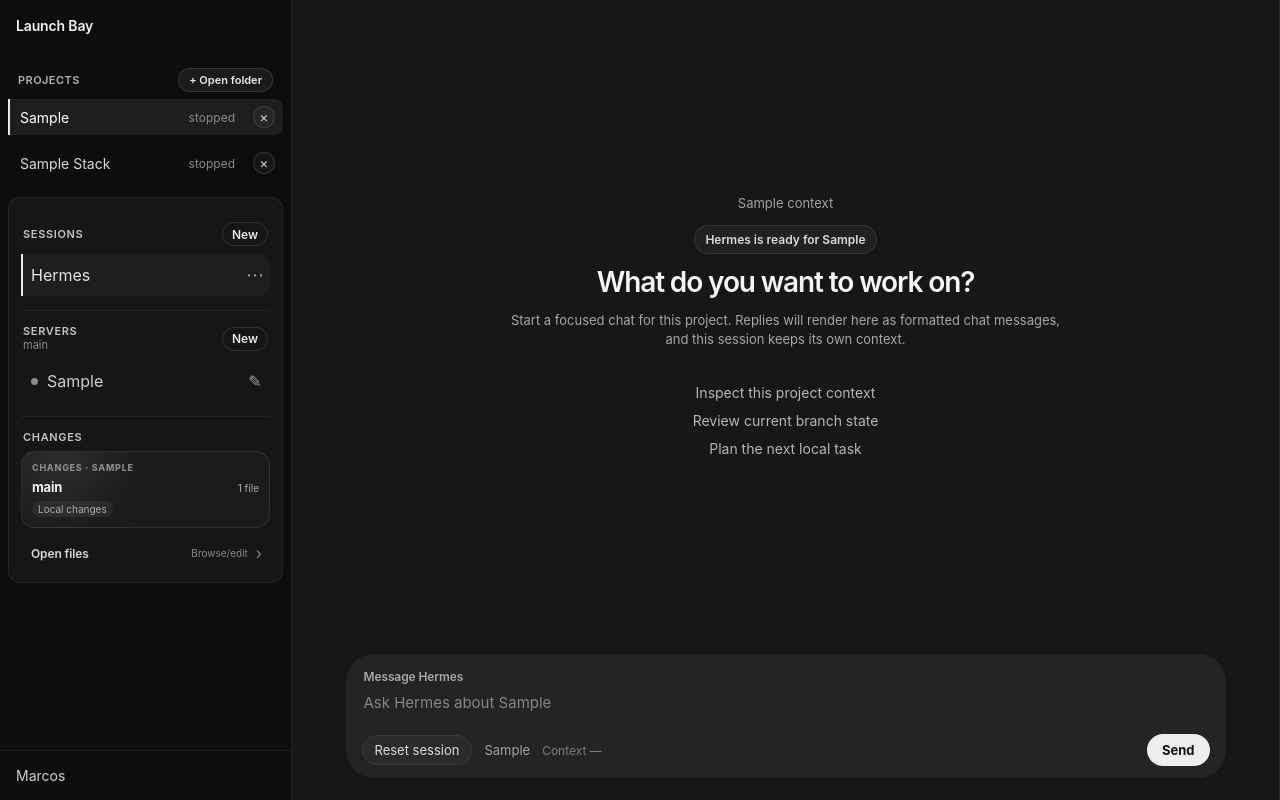
Launch Bay shell › refreshes the open changes workbench automatically when the app regains focus
This screenshot has width=1280, height=800.
Click the button with aria-label "Expand changes workbench": (146, 490) [21,451,270,528]
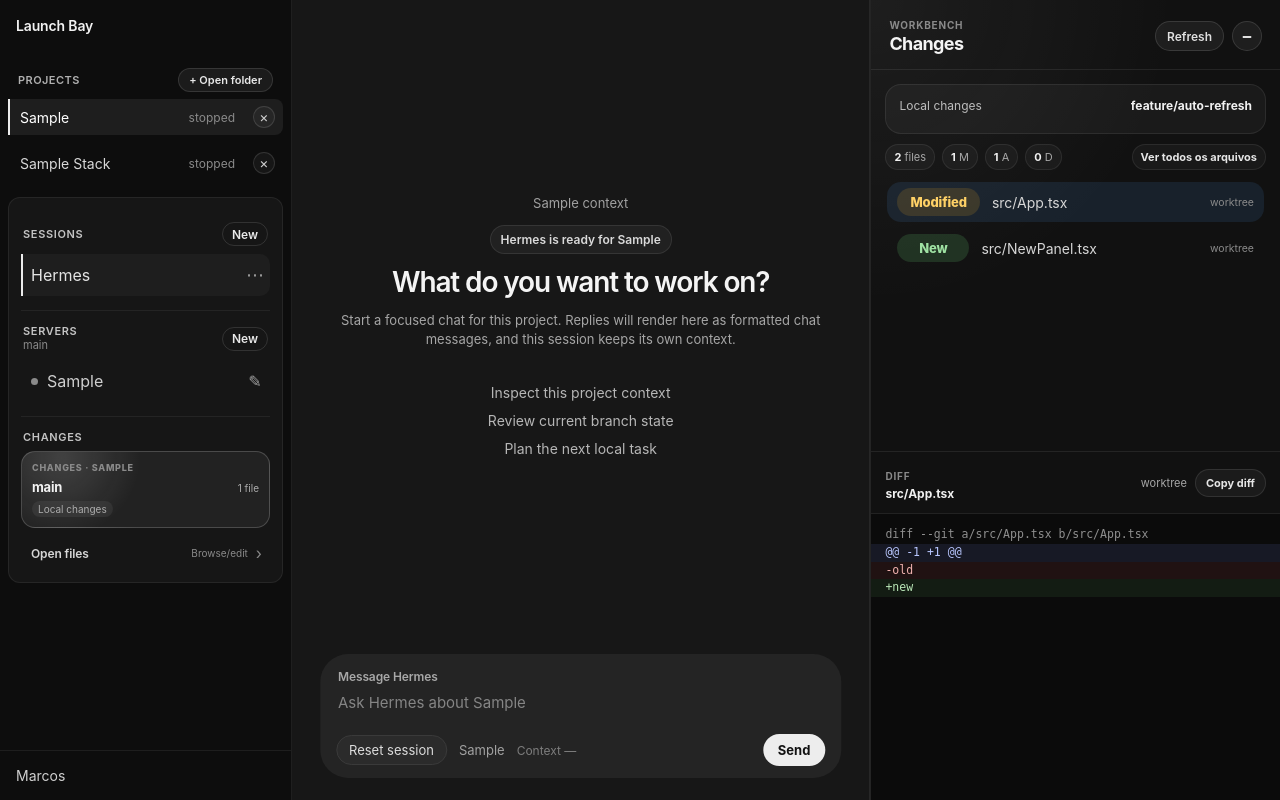
expect the button "Modified src/App.tsx worktree" is shown: met, box [887,182,1264,222]
expect the text "feature/auto-refresh" is shown: met, box [1131,98,1252,113]
expect the button "New src/NewPanel.tsx worktree" is shown: met, box [887,228,1264,268]
